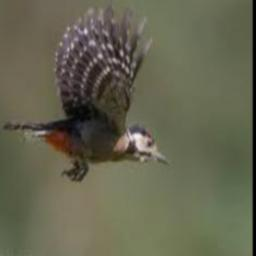Woodpecker: (4, 6, 174, 180)
